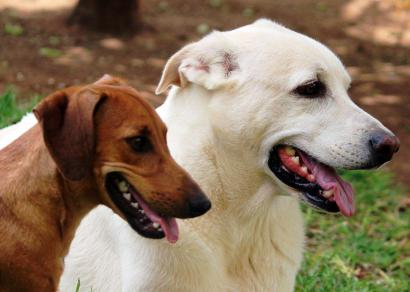Dog: (163, 13, 403, 234), (33, 65, 214, 278)
